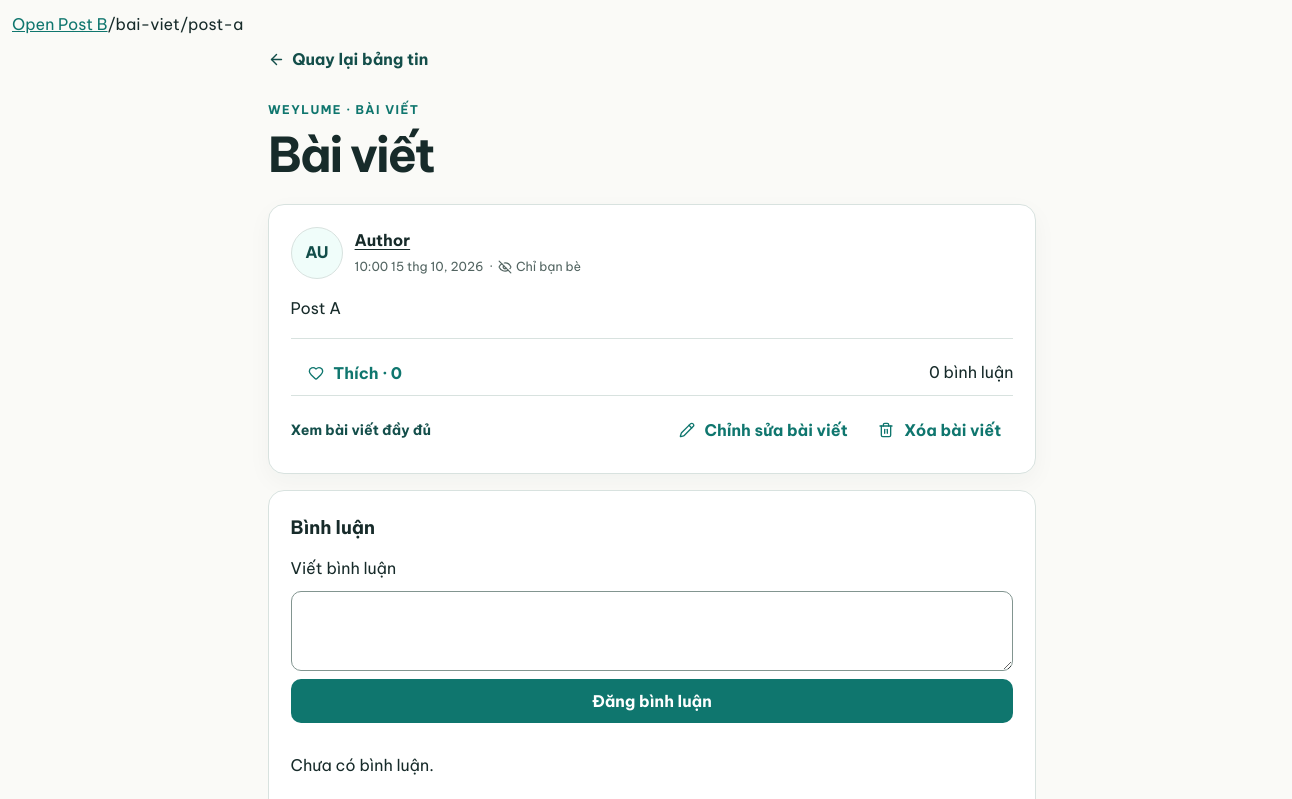
it: PostDetailPage route identity › does not navigate away when a Post A delete resolves after navigating to Post B
Expected: the text "Post A" is shown, [291, 298, 341, 318]
Click the button "Xóa bài viết" at (940, 430), box [866, 408, 1013, 452]
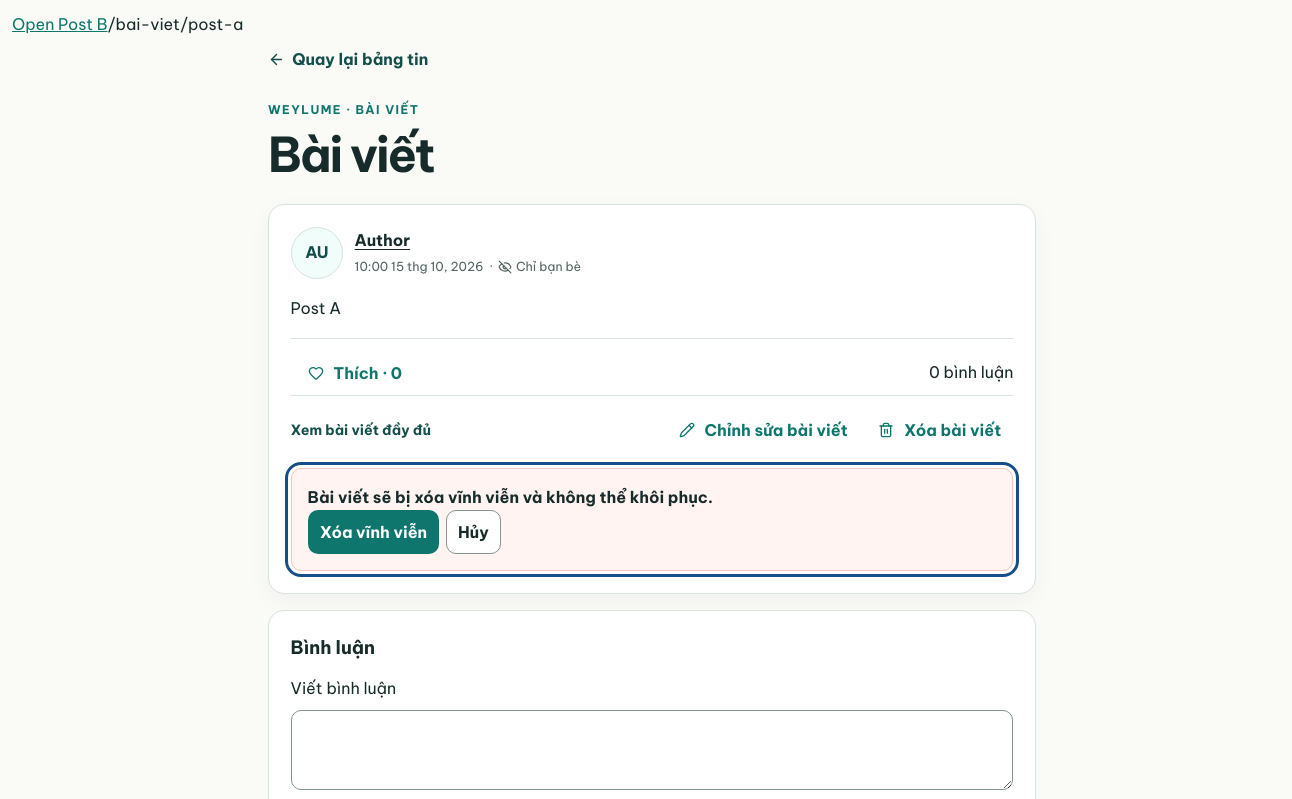
Click the button "Xóa vĩnh viễn" at (373, 532), box [308, 510, 439, 554]
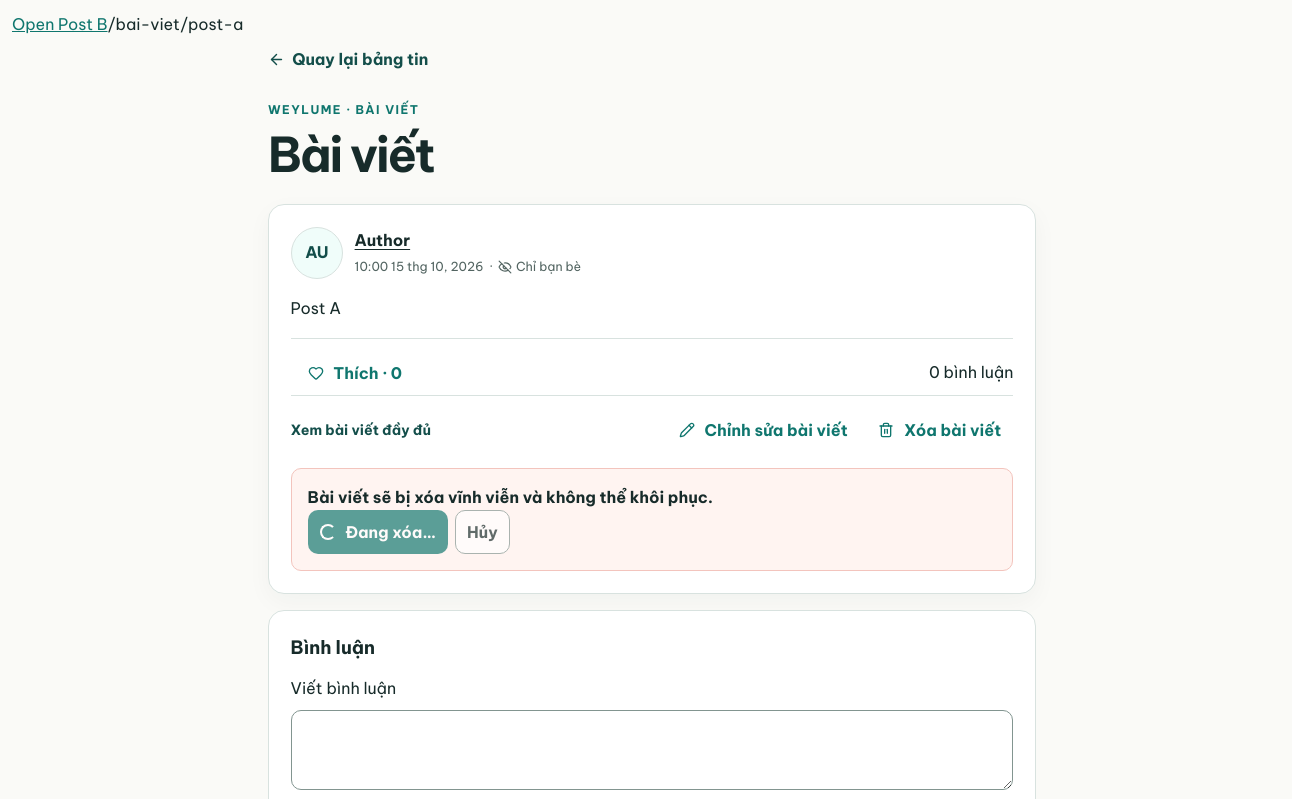
Click the link "Open Post B" at (60, 24), box [12, 14, 108, 34]
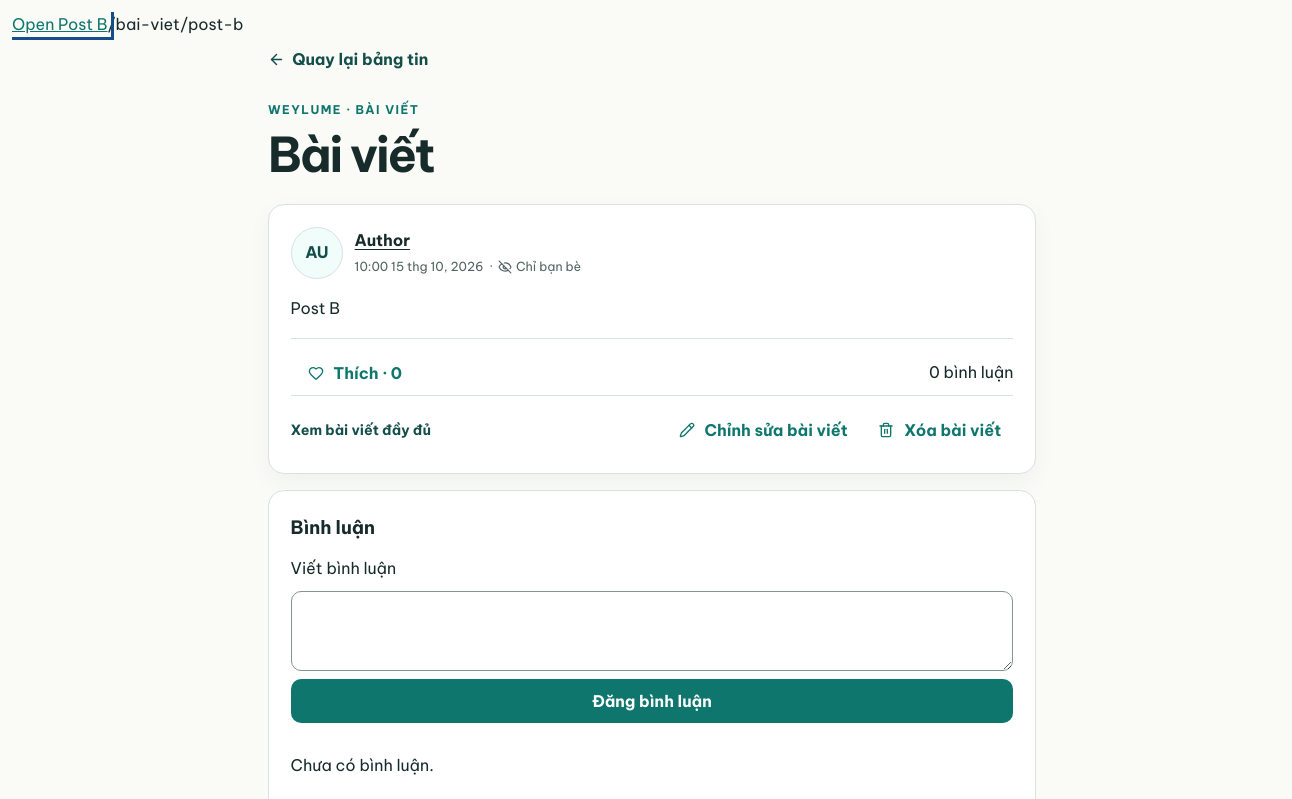
Now the text "Post B" is shown, box [291, 298, 340, 318]
Now the text "/bai-viet/post-b" is shown, box [108, 14, 244, 34]
